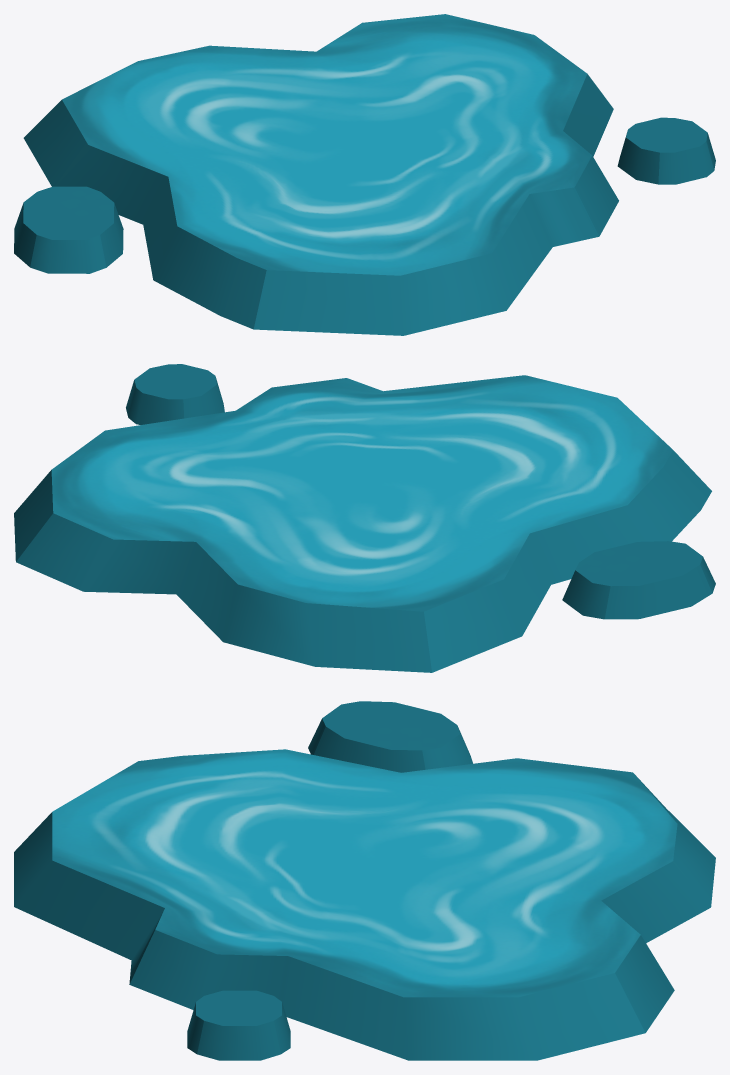
Rendered from water.fbx.
The picture shows the model from 3 angles, top to bottom: view 1: azimuth 30°, elevation 25°; view 2: azimuth 150°, elevation 25°; view 3: azimuth 270°, elevation 25°; orthographic projection. The views are drawn at different scales.
Visible parts, largest first — view 1: pCube1, pCube3, pCube2; view 2: pCube1, pCube3, pCube2; view 3: pCube1, pCube3, pCube2.
Boxes of the visible parts, box(x1,y1,x2,y2) form: pCube1: box(23, 14, 618, 335); pCube3: box(14, 186, 123, 273); pCube2: box(617, 117, 715, 184); pCube1: box(14, 375, 711, 672); pCube3: box(562, 541, 715, 619); pCube2: box(126, 364, 224, 424); pCube1: box(14, 749, 715, 1060); pCube3: box(308, 701, 472, 772); pCube2: box(187, 990, 290, 1060).
Size of the model in its own units: 1009 by 67.77 by 898.
